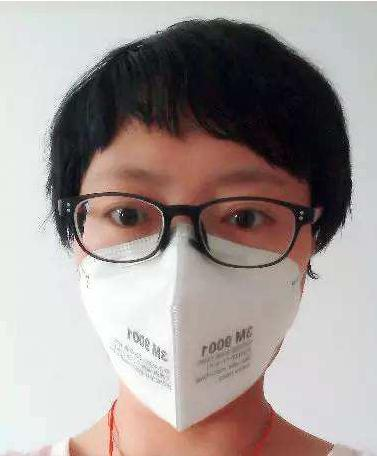OK: (79, 146, 306, 424)
